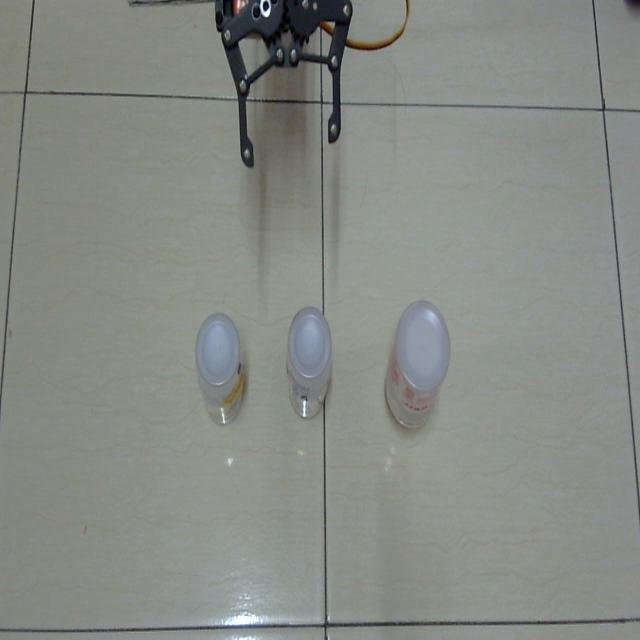Plastic-stand-rotation: (379, 297, 452, 437), (190, 312, 254, 434), (282, 307, 336, 423)
